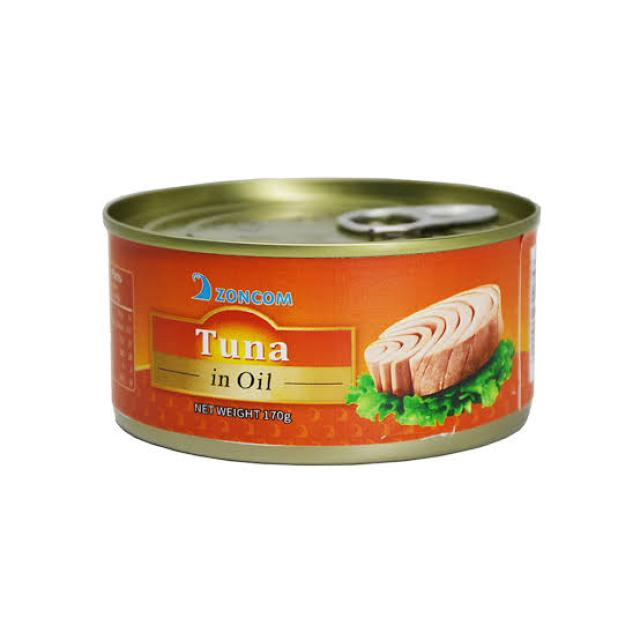can: (65, 181, 593, 472)
